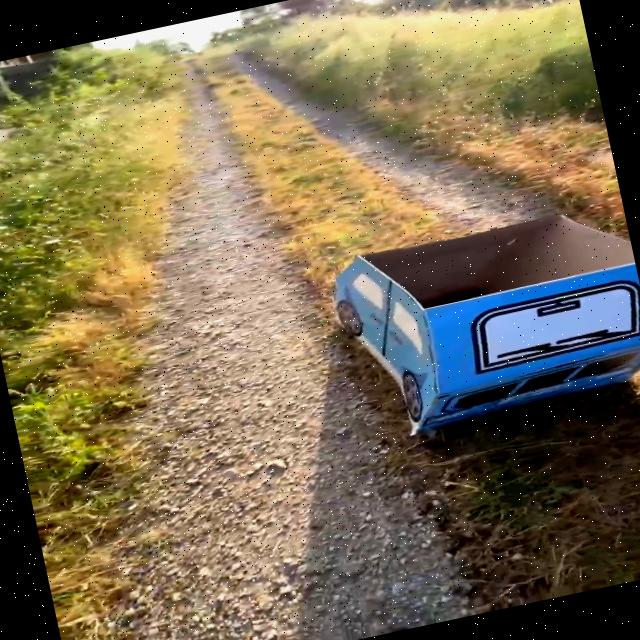blue_car: (270, 177, 640, 470)
